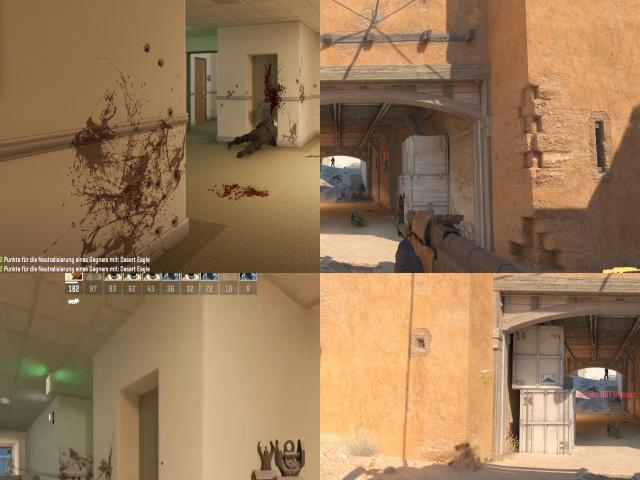CT: (331, 156, 335, 168), (604, 368, 608, 380), (320, 159, 322, 171)
CT-Head: (332, 157, 333, 158)
Dead: (226, 112, 282, 158), (352, 210, 364, 226), (608, 422, 620, 436), (332, 174, 343, 180), (359, 182, 366, 191), (589, 385, 599, 391), (615, 394, 621, 403)
